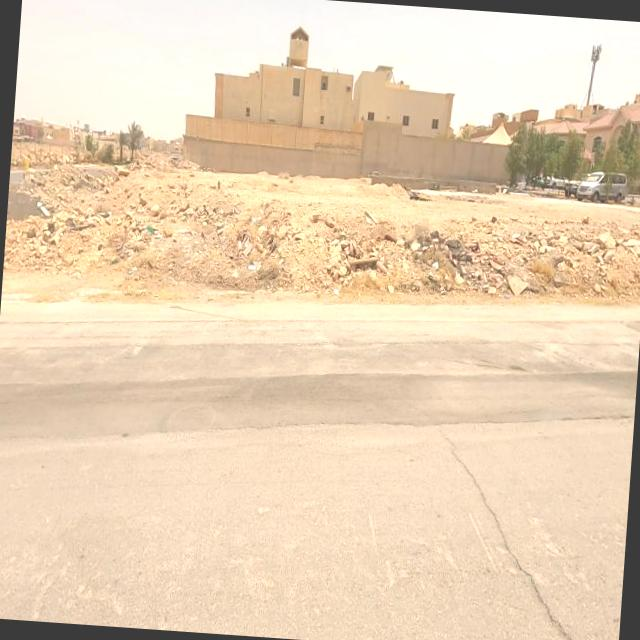debris: (118, 180, 185, 282), (213, 232, 284, 314), (349, 185, 392, 252), (416, 239, 457, 293)
